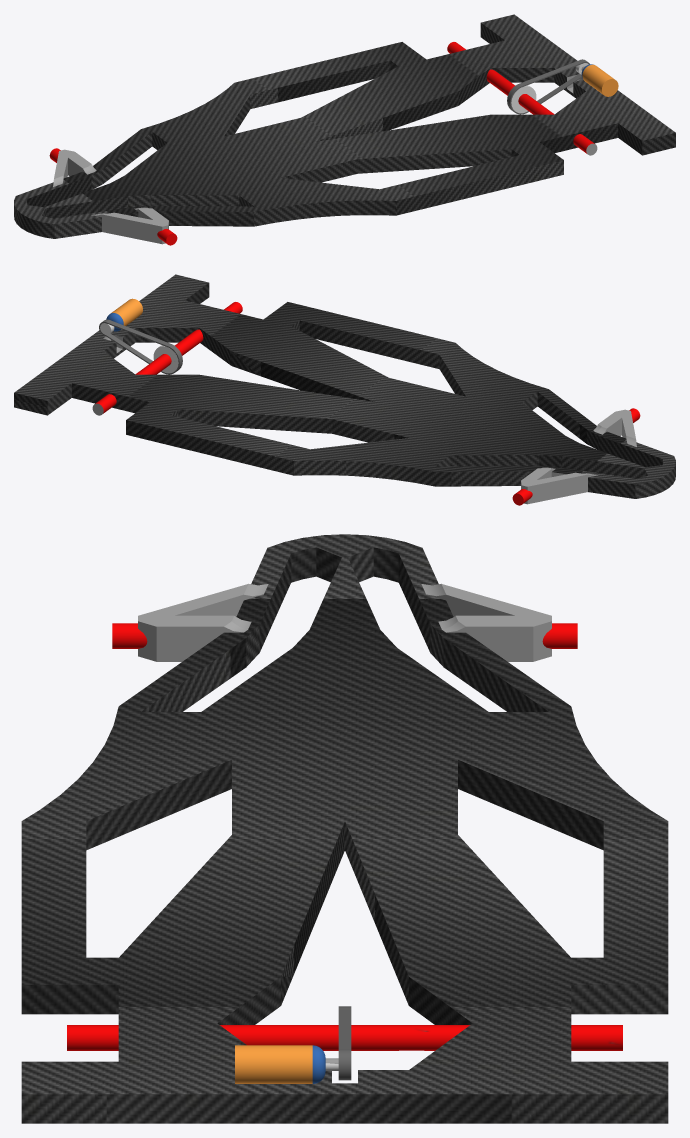
Rendered from f1cart_body.dae.
The picture shows the model from 3 angles, top to bottom: view 1: azimuth 30°, elevation 25°; view 2: azimuth 150°, elevation 25°; view 3: azimuth 270°, elevation 25°; orthographic projection. The views are drawn at different scales.
Parts seen in each view (by area): view 1: mesh_1_f1cart; view 2: mesh_1_f1cart; view 3: mesh_1_f1cart.
Boxes of the visible parts, left/top/right/bottom form: mesh_1_f1cart: left=14, top=14, right=675, bottom=245; mesh_1_f1cart: left=14, top=274, right=675, bottom=505; mesh_1_f1cart: left=21, top=534, right=668, bottom=1123.
Size of the model in its own units: 1.02 by 0.5 by 0.067.
1 material, 1 textured.
